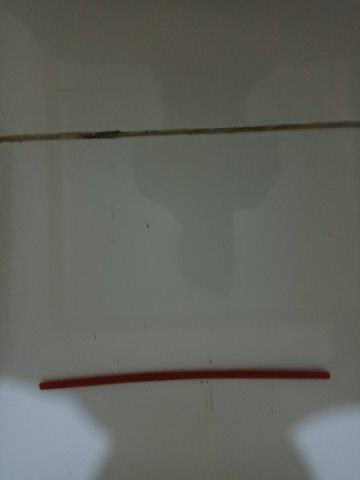sedotan: (40, 370, 331, 389)
